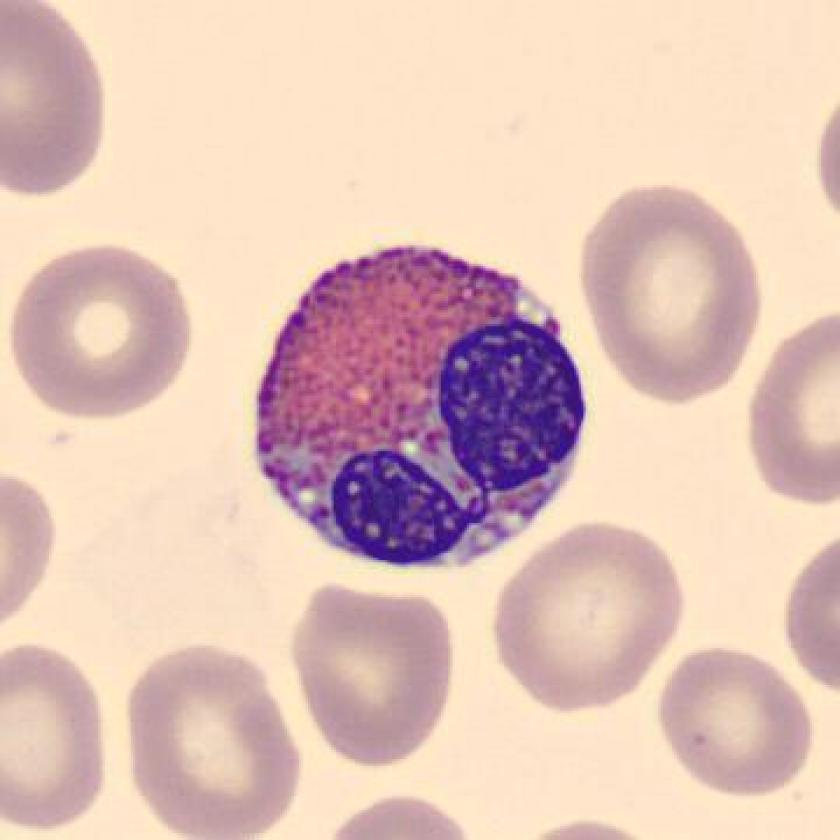eosinophil: (241, 226, 603, 587)
